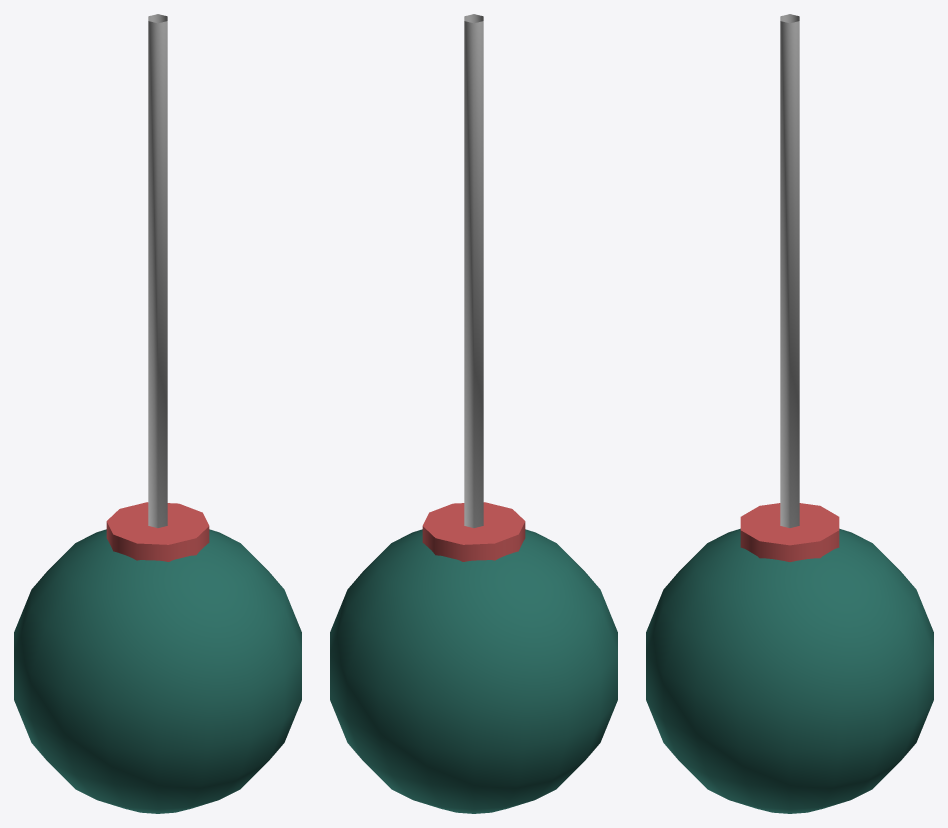
The model's file is Pendulum.fbx.
3 renders of one model, left to right at view 1: azimuth 30°, elevation 25°; view 2: azimuth 150°, elevation 25°; view 3: azimuth 270°, elevation 25°, orthographic.
Parts seen in each view (by area): view 1: Pendulum; view 2: Pendulum; view 3: Pendulum.
Boxes of the visible parts, left/top/right/bottom form: Pendulum: left=14, top=14, right=301, bottom=813; Pendulum: left=330, top=14, right=617, bottom=813; Pendulum: left=646, top=14, right=933, bottom=813.
Size of the model in its own units: 327 by 964 by 322.
